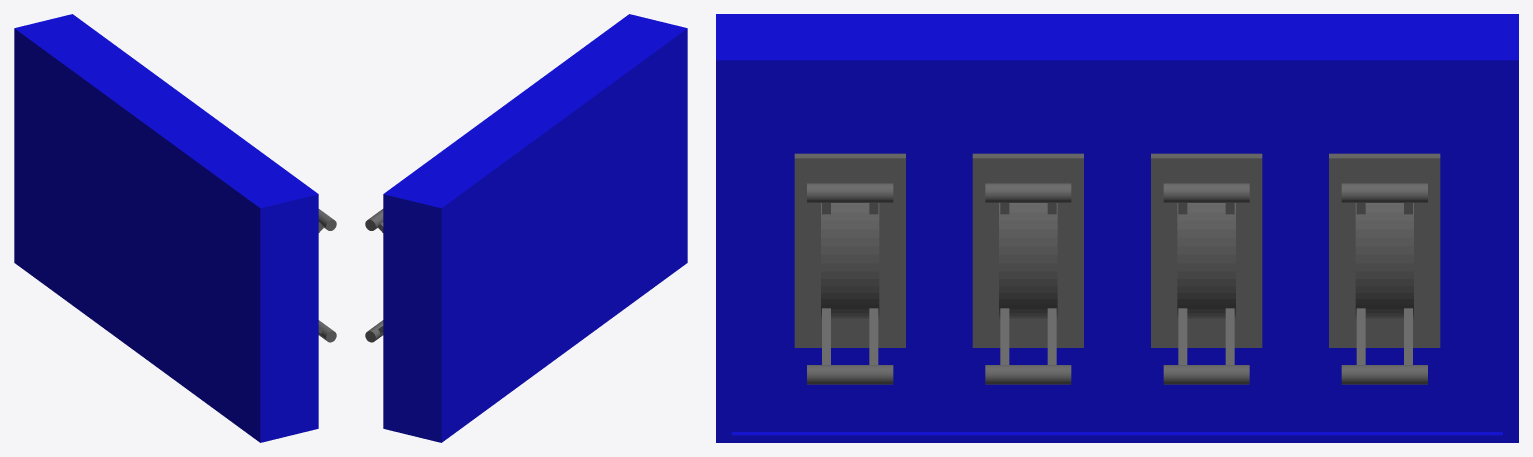
The model's file is Lever pannels.fbx.
3 renders of one model, left to right at view 1: azimuth 30°, elevation 25°; view 2: azimuth 150°, elevation 25°; view 3: azimuth 270°, elevation 25°, orthographic. The views are drawn at different scales.
Visible parts, largest first — view 1: Switch board Blue; view 2: Switch board Blue; view 3: Switch board Blue, SwitchOff3.001, SwitchOff2.001, SwitchOff1.001, SwitchOff4.001, SwitchOn4.001, SwitchOn2.001, SwitchOn1.001, SwitchOn3.001.
Part boxes in pixels (x1,y1,x2,y2): Switch board Blue: (14, 14, 318, 442); Switch board Blue: (383, 14, 687, 442); Switch board Blue: (716, 14, 1518, 442); SwitchOff3.001: (1151, 153, 1262, 347); SwitchOff2.001: (972, 153, 1083, 347); SwitchOff1.001: (794, 153, 905, 347); SwitchOff4.001: (1329, 153, 1440, 347); SwitchOn4.001: (1329, 153, 1440, 384); SwitchOn2.001: (972, 153, 1083, 384); SwitchOn1.001: (794, 153, 905, 384); SwitchOn3.001: (1151, 153, 1262, 384).
Size of the model in its own units: 46.9 by 101 by 192.
